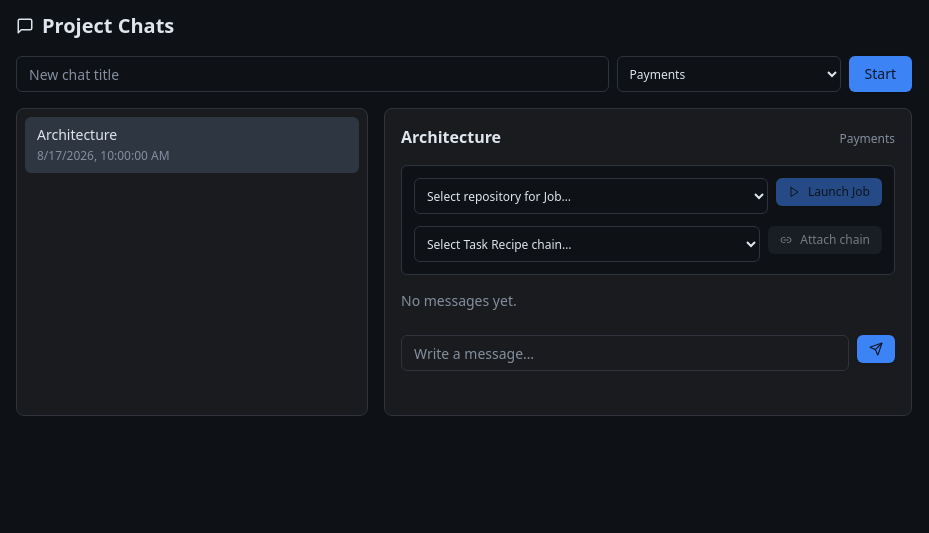
Scenario: ProjectChats › renders the persisted assistant response after sending
This screenshot has width=929, height=533.
Step 1. Type "What should we do?" into the field with placeholder "Write a message…" → [625, 353], box [401,335,849,371]
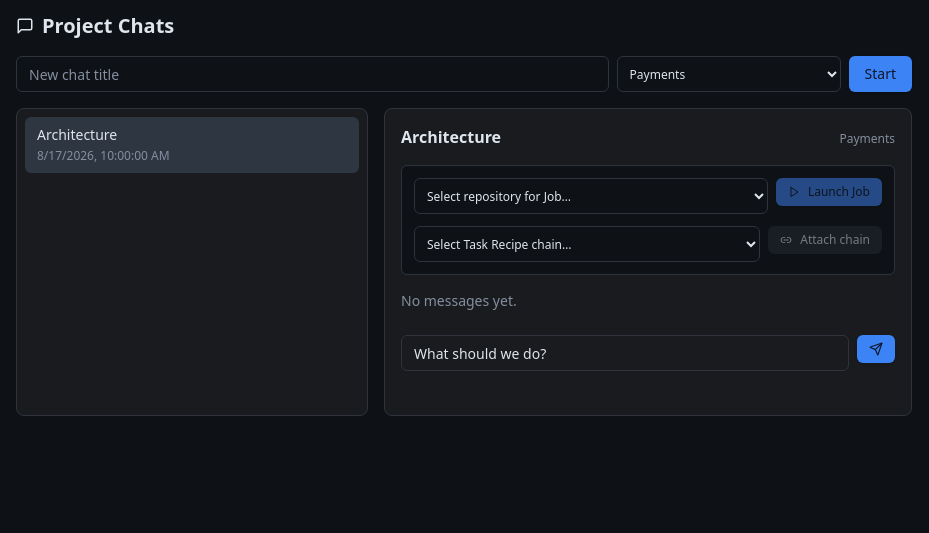
Step 2. Click the button named "Send message" → [876, 349], box [857,335,895,363]
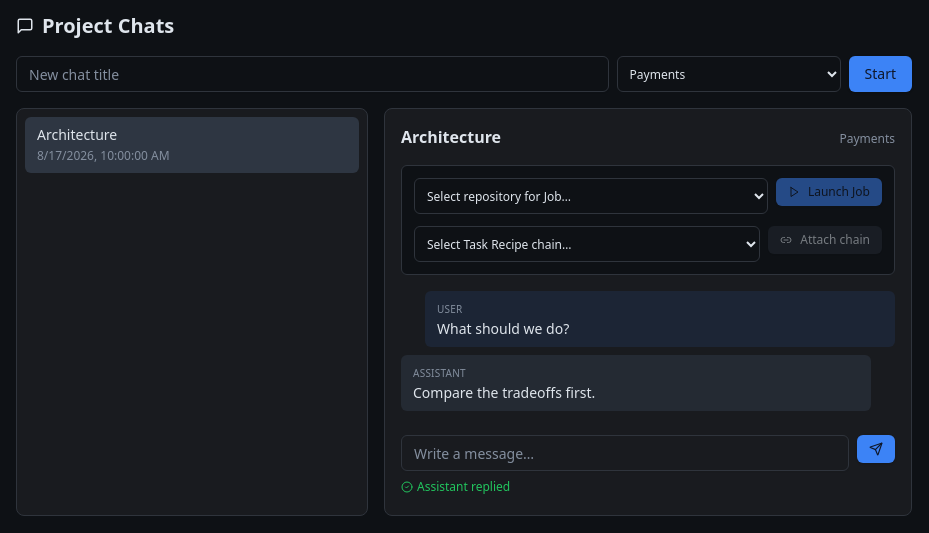
Result: the text "Compare the tradeoffs first." is shown at [413,383,595,402]
Result: the text "Assistant replied" is shown at [401,479,510,495]
